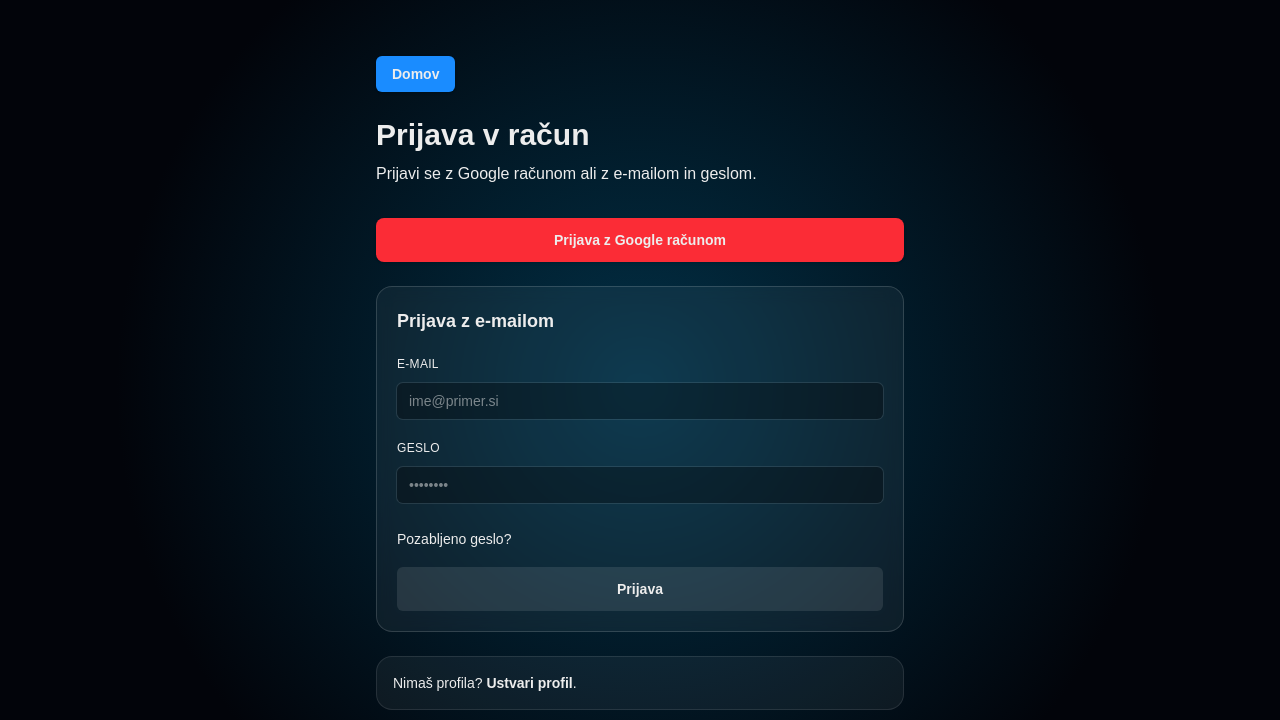
Test: Login Page › prikaže slovensko sporočilo za neobstoječ uporabnik
The image size is (1280, 720).
Type "neobstojeci@example.com" into the field with placeholder "ime@primer.si" at [640, 401], box [397,383,883,419]
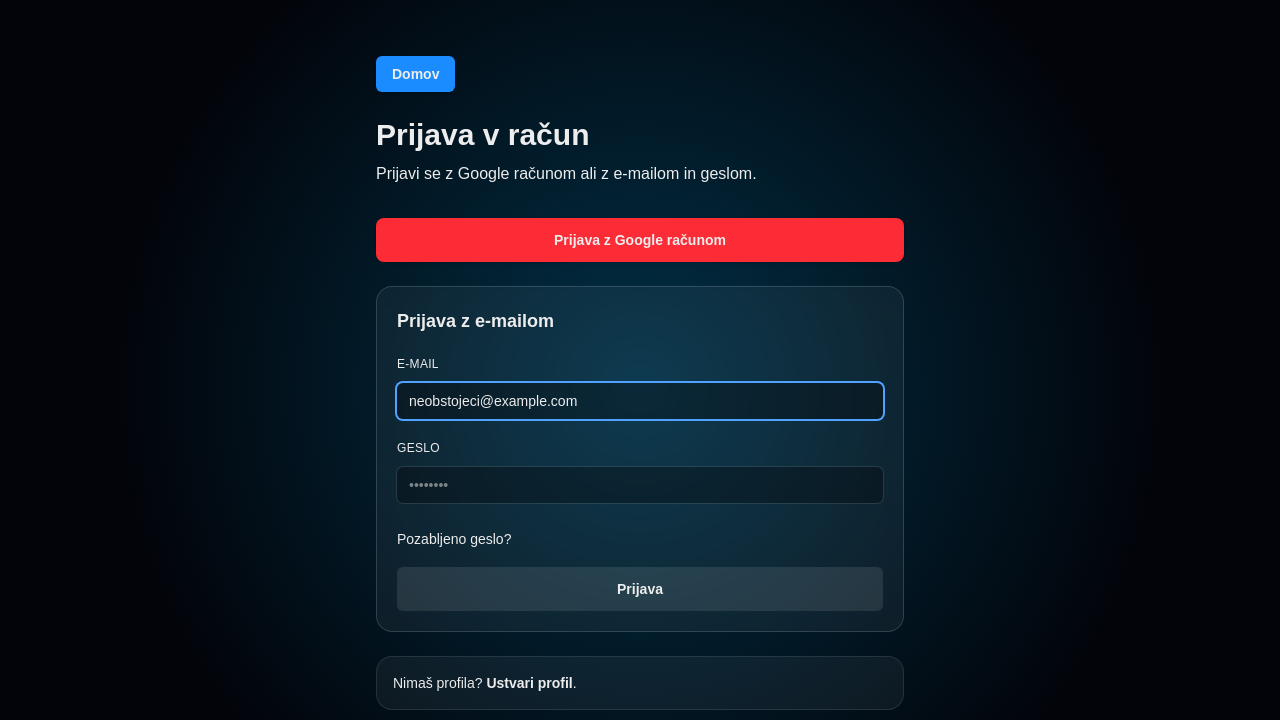
Type "password123" into the password field with placeholder "••••••••" at [640, 485], box [397,467,883,503]
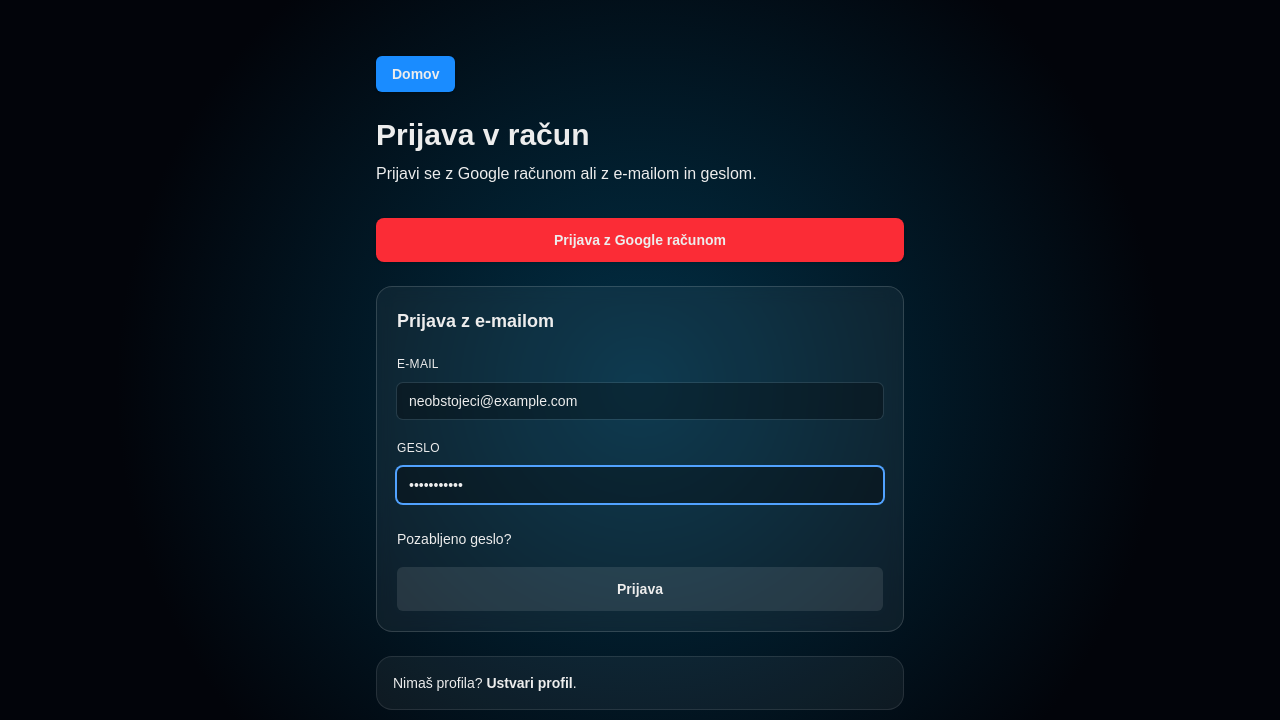
Submit the form, box [397,351,883,611]
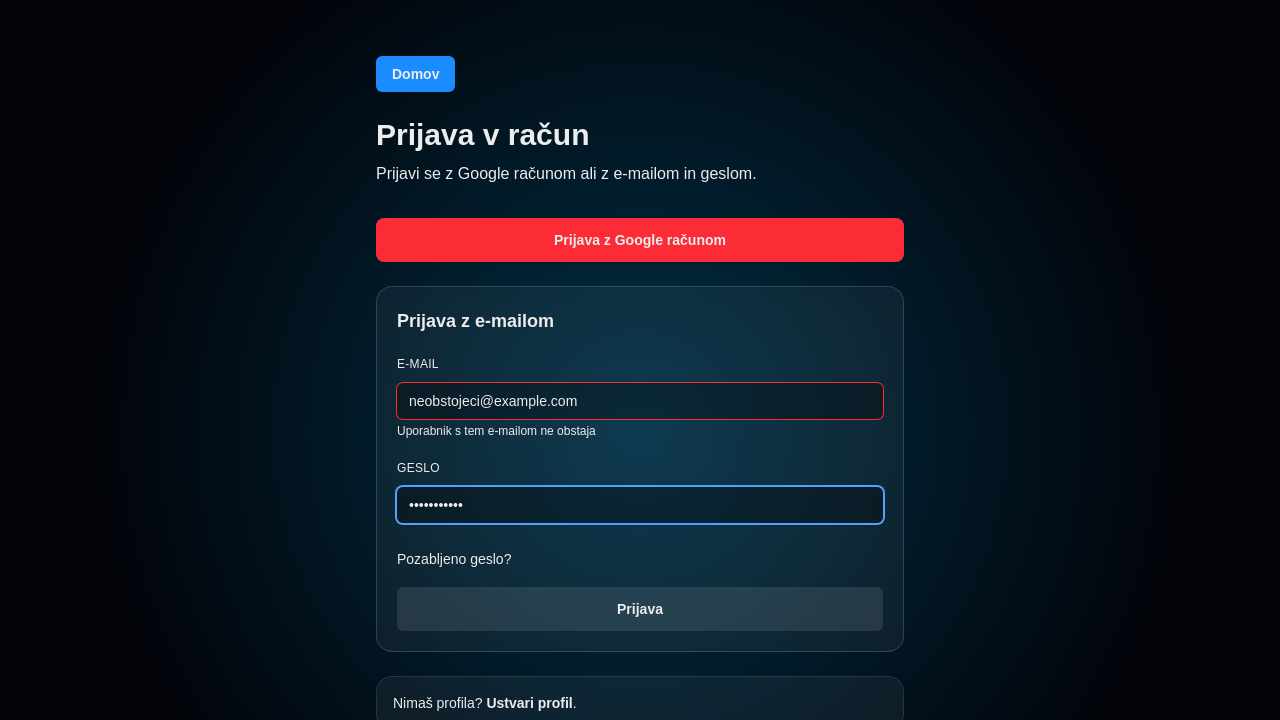
Expected: the text "Uporabnik s tem e-mailom ne obstaja" is shown, [397,424,596,438]
